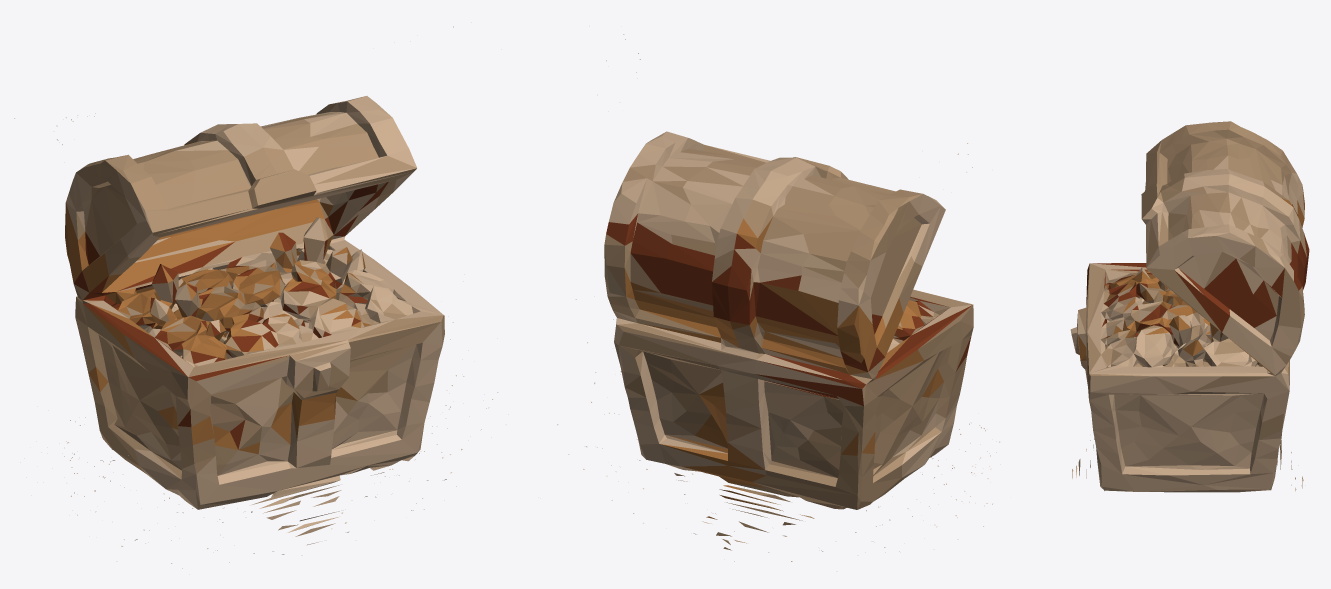
Rendered from chest.glb.
3 views of the same model, side by side, from view 1: azimuth 30°, elevation 25°; view 2: azimuth 150°, elevation 25°; view 3: azimuth 270°, elevation 25° (orthographic). The views are drawn at different scales.
Visible parts, largest first — view 1: geometry_0; view 2: geometry_0; view 3: geometry_0.
Part boxes in pixels (x1,y1,x2,y2): geometry_0: (14,26,508,568); geometry_0: (557,26,999,561); geometry_0: (1070,121,1309,492).
Size of the model in its own units: 1.98 by 1.96 by 1.13.
